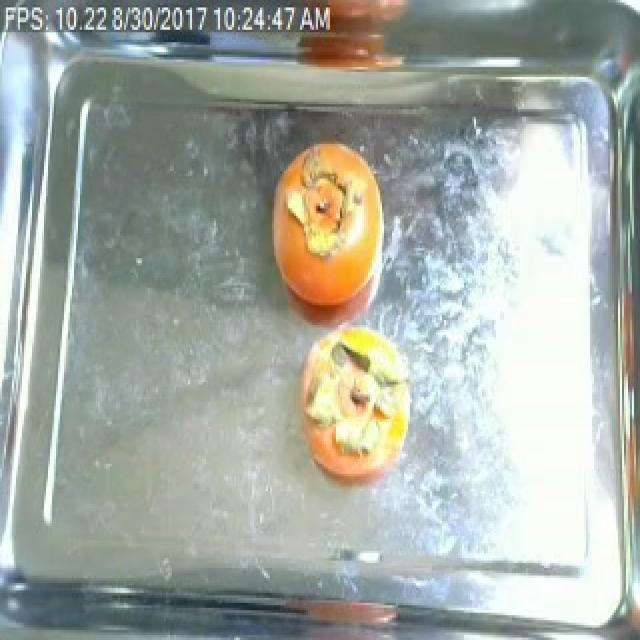Fruit: (260, 129, 388, 322)
